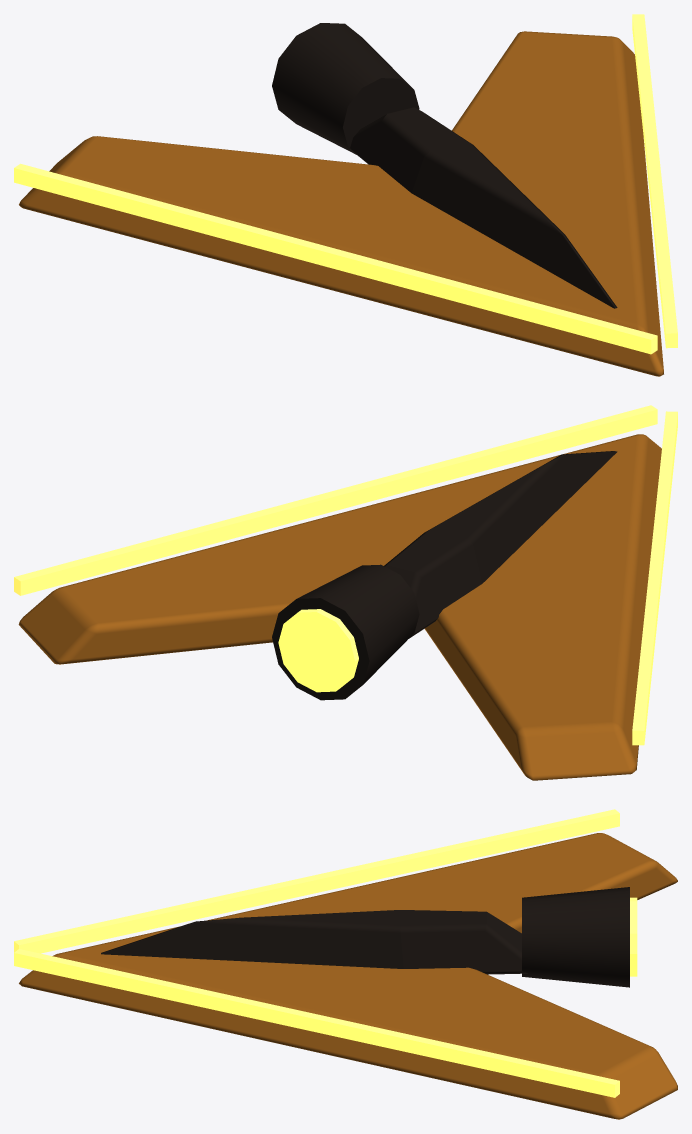
Rendered from dart.glb.
3 views of the same model, one above another, from view 1: azimuth 30°, elevation 25°; view 2: azimuth 150°, elevation 25°; view 3: azimuth 270°, elevation 25° (orthographic). The views are drawn at different scales.
Visible parts, largest first — view 1: dart_blade, dart_trim, dart_spine, dart_nozzle; view 2: dart_blade, dart_trim, dart_spine, dart_nozzle, thruster; view 3: dart_blade, dart_trim, dart_spine, dart_nozzle, thruster.
Part boxes in pixels (box(x1,y1,x2,y2)): dart_blade: box(19, 31, 663, 376); dart_trim: box(14, 14, 677, 354); dart_spine: box(350, 107, 617, 308); dart_nozzle: box(272, 23, 419, 154); dart_blade: box(18, 434, 661, 780); dart_trim: box(14, 405, 677, 745); dart_spine: box(384, 451, 617, 638); dart_nozzle: box(272, 564, 419, 700); thruster: box(278, 609, 358, 692); dart_blade: box(19, 833, 677, 1119); dart_trim: box(14, 809, 619, 1097); dart_spine: box(101, 910, 527, 974); dart_nozzle: box(522, 887, 629, 987); thruster: box(630, 897, 637, 976).
Bounding box in the file's own units: 3.61 × 0.58 × 3.68.
